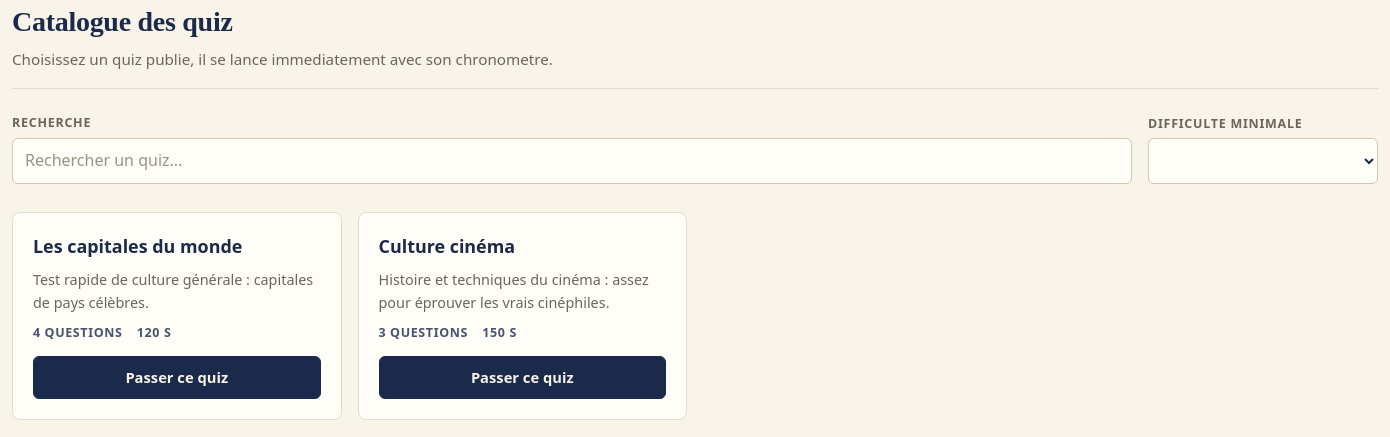
CatalogComponent › filtre la liste selon la recherche
In the field named "search": (572, 161) 12,138 -> 1132,184, type "cinéma"
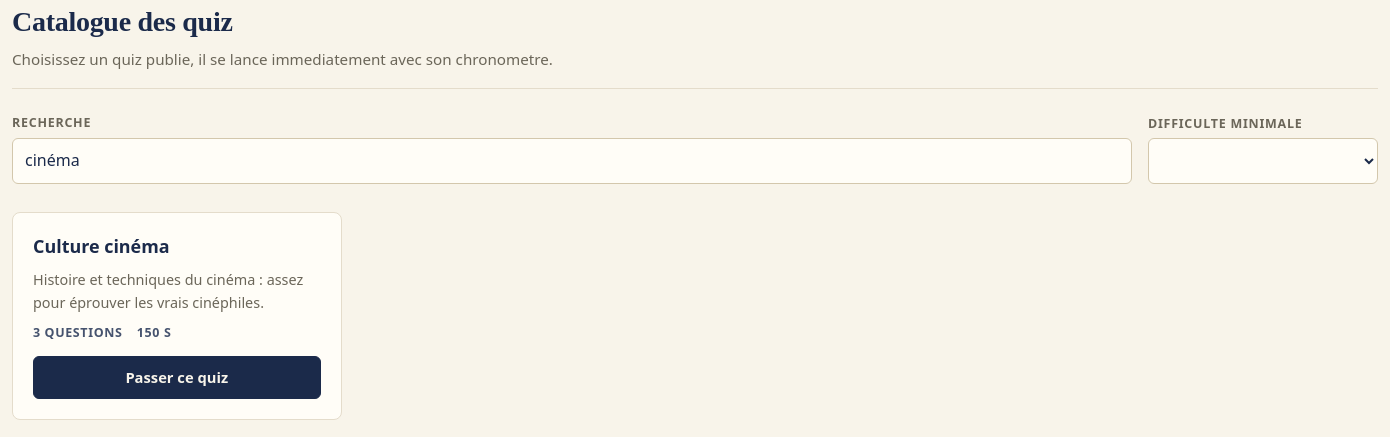
Expected: the text "Culture cinéma" is shown, 33,233 -> 170,260
Now the text "Les capitales du monde" is gone
